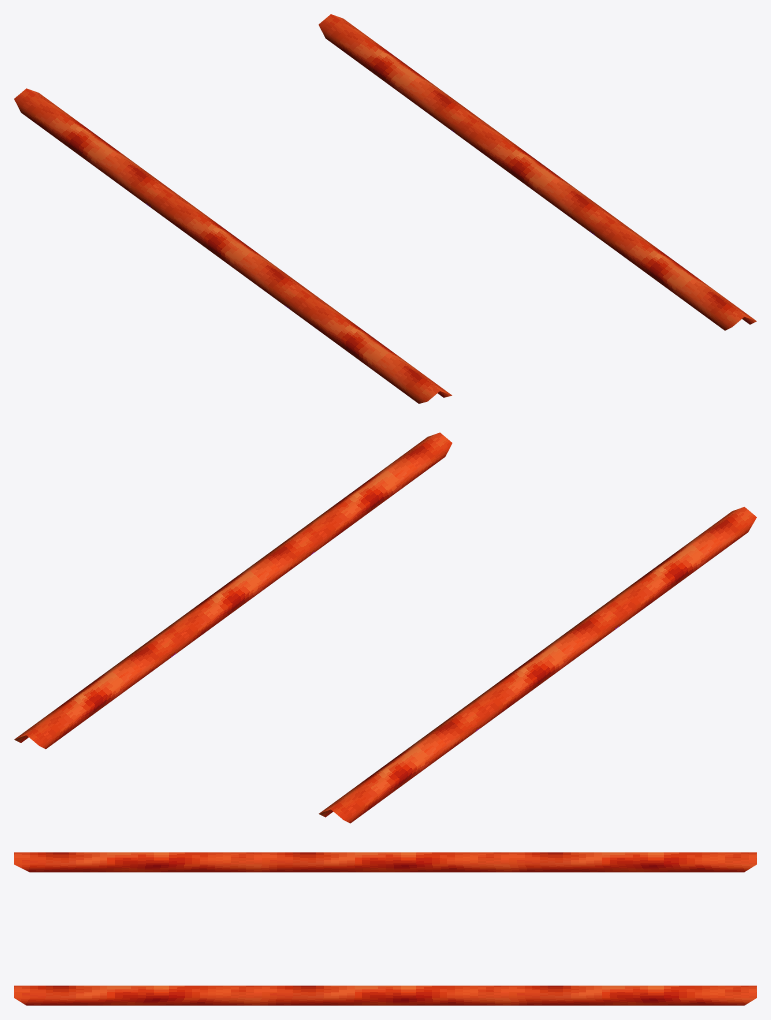
3 renders of one model, top to bottom at view 1: azimuth 30°, elevation 25°; view 2: azimuth 150°, elevation 25°; view 3: azimuth 270°, elevation 25°, orthographic. The views are drawn at different scales.
Visible parts, largest first — view 1: S04_ON_22; view 2: S04_ON_22; view 3: S04_ON_22.
Part boxes in pixels (x1,y1,x2,y2): S04_ON_22: (14, 14, 756, 403); S04_ON_22: (14, 432, 756, 823); S04_ON_22: (14, 852, 756, 1005).
Size of the model in its own units: 11900 by 558 by 25880.
